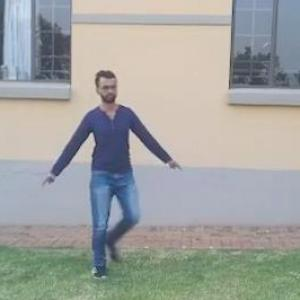land: (33, 70, 170, 260)
